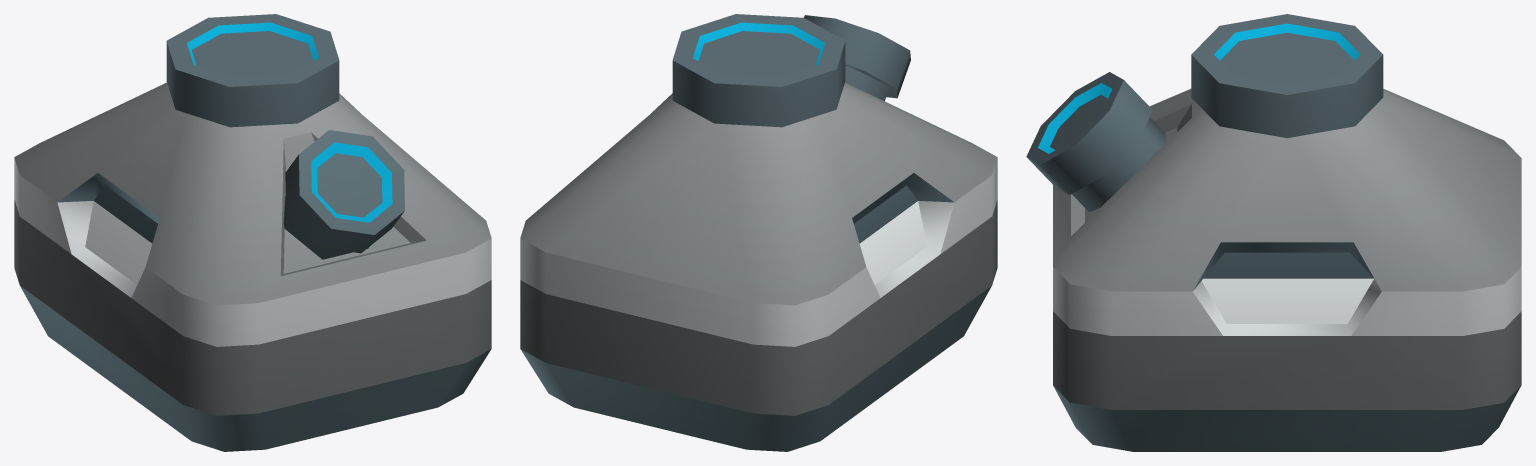
Rendered from Gas_can_002.glb.
3 views of the same model, side by side, from view 1: azimuth 30°, elevation 25°; view 2: azimuth 150°, elevation 25°; view 3: azimuth 270°, elevation 25° (orthographic). The views are drawn at different scales.
Parts seen in each view (by area): view 1: Gas_can_002; view 2: Gas_can_002; view 3: Gas_can_002.
Part boxes in pixels (x1=…): Gas_can_002: x1=14, y1=14, x2=491, y2=451; Gas_can_002: x1=520, y1=14, x2=997, y2=451; Gas_can_002: x1=1026, y1=14, x2=1521, y2=451.
Size of the model in its own units: 0.348 by 0.3356 by 0.4597.
2 materials, 2 textured.
